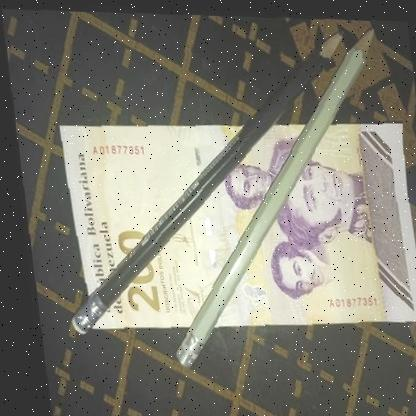two_hundred-front-vef: (54, 104, 416, 343)
